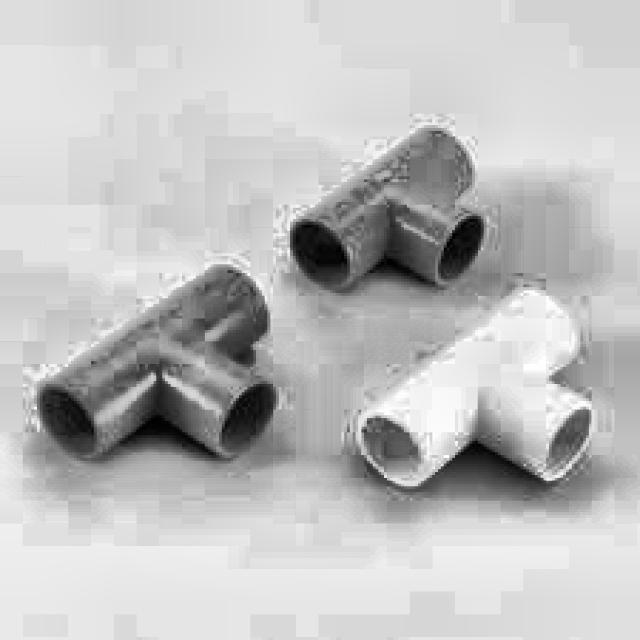EQUALTEE: (356, 287, 597, 489), (40, 265, 279, 464), (290, 128, 486, 296)
